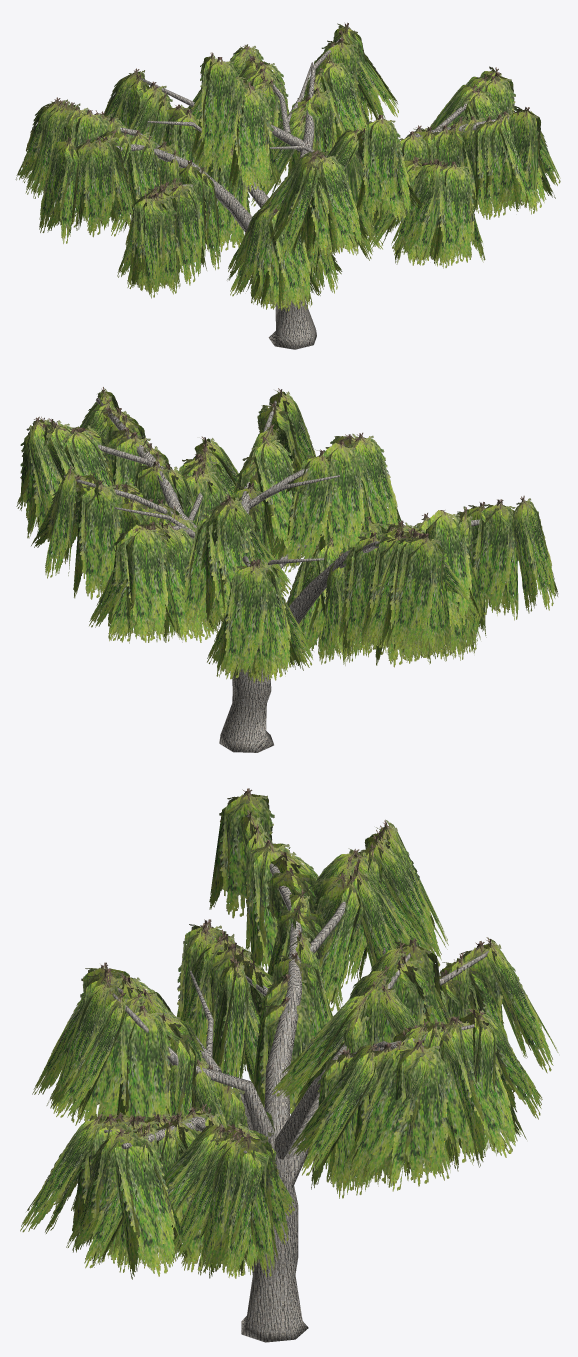
Rendered from Weeping Willow.fbx.
3 renders of one model, top to bottom at view 1: azimuth 30°, elevation 25°; view 2: azimuth 150°, elevation 25°; view 3: azimuth 270°, elevation 25°, orthographic. The views are drawn at different scales.
Parts seen in each view (by area): view 1: Weeping Willow; view 2: Weeping Willow; view 3: Weeping Willow.
Part boxes in pixels (x1,y1,x2,y2): Weeping Willow: (15,22,560,349); Weeping Willow: (16,387,558,752); Weeping Willow: (20,788,558,1342).
Bounding box in the file's own units: 14.51 × 7.63 × 10.03.
Materials: 2 (2 with a texture image).
